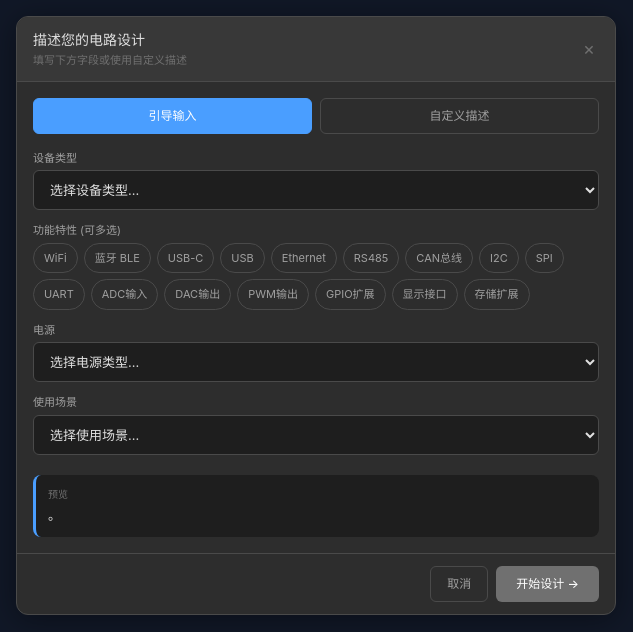
Scenario: MadLibsInput Component › should collapse when close button is clicked
The width and height of the screenshot is (633, 632).
Click the button "×": (589, 49) top-left (579, 31), bottom-right (599, 66)
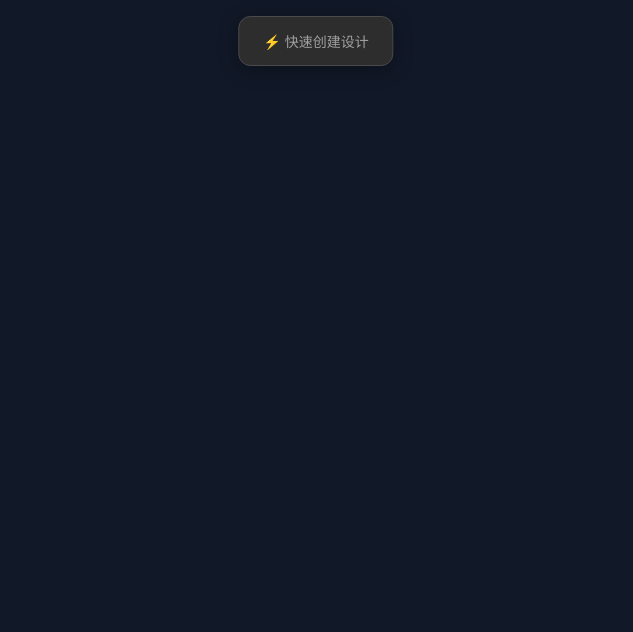
Check: the text "⚡ 快速创建设计" is shown, box top-left (263, 33), bottom-right (369, 50)
